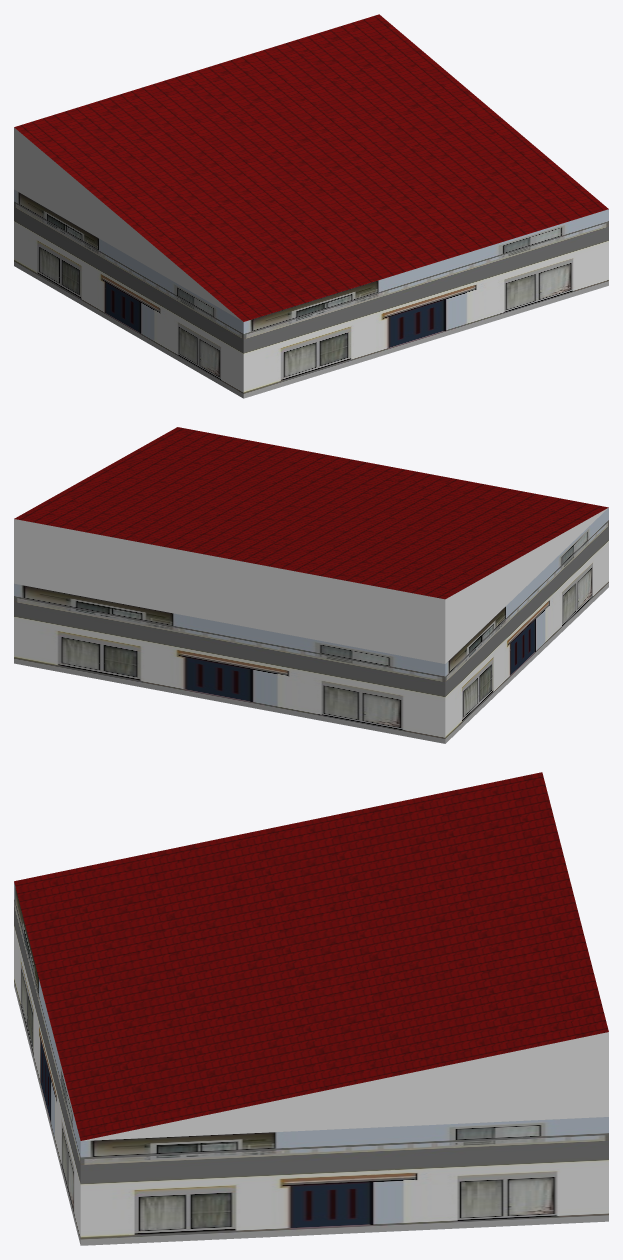
The picture shows the model from 3 angles, top to bottom: view 1: azimuth 30°, elevation 25°; view 2: azimuth 150°, elevation 25°; view 3: azimuth 270°, elevation 25°; orthographic projection. The views are drawn at different scales.
Visible parts, largest first — view 1: CityEngineMaterial_17_m, CityEngineMaterial_7_m, CityEngineMaterial_3_m; view 2: CityEngineMaterial_17_m, CityEngineMaterial_7_m, CityEngineMaterial_3_m; view 3: CityEngineMaterial_17_m, CityEngineMaterial_7_m, CityEngineMaterial_3_m.
Boxes of the visible parts, box(x1,y1,x2,y2) form: CityEngineMaterial_17_m: box(14, 14, 608, 321); CityEngineMaterial_7_m: box(14, 189, 608, 398); CityEngineMaterial_3_m: box(14, 127, 242, 321); CityEngineMaterial_17_m: box(14, 427, 608, 599); CityEngineMaterial_7_m: box(14, 508, 608, 743); CityEngineMaterial_3_m: box(14, 508, 607, 663); CityEngineMaterial_17_m: box(14, 772, 608, 1140); CityEngineMaterial_7_m: box(14, 882, 608, 1245); CityEngineMaterial_3_m: box(82, 1032, 608, 1140).
Bounding box in the file's own units: 35.96 × 11.2 × 31.83.
